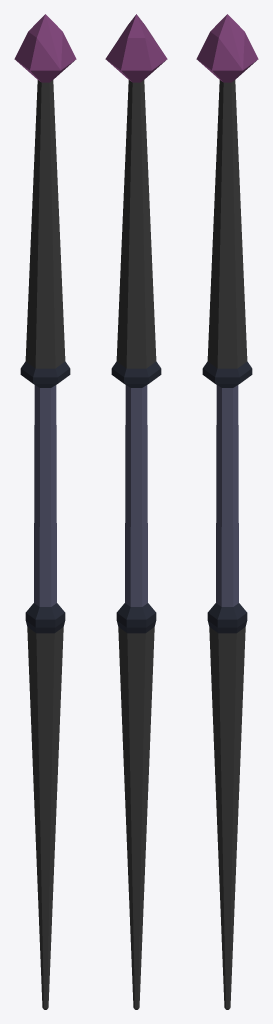
Rendered from Staff1.fbx.
3 views of the same model, side by side, from view 1: azimuth 90°, elevation 25°; view 2: azimuth 150°, elevation 25°; view 3: azimuth 270°, elevation 25° (orthographic).
Visible parts, largest first — view 1: Cylinder; view 2: Cylinder; view 3: Cylinder.
Boxes of the visible parts, bbox=[...] form: Cylinder: bbox=[14, 14, 76, 1009]; Cylinder: bbox=[105, 14, 167, 1009]; Cylinder: bbox=[196, 14, 258, 1009].
Bounding box in the file's own units: 7.94 × 162 × 9.17.
